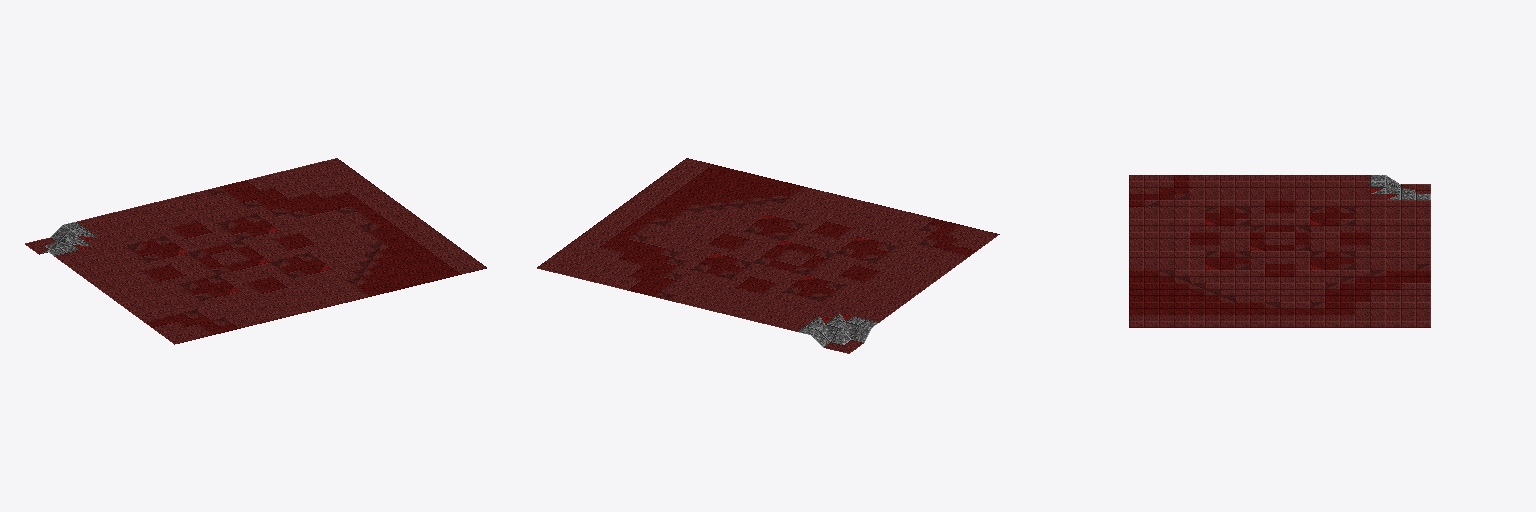
3 views of the same model, side by side, from view 1: azimuth 30°, elevation 25°; view 2: azimuth 150°, elevation 25°; view 3: azimuth 270°, elevation 25° (orthographic).
Visible parts, largest first — view 1: FloorSide_7; view 2: FloorSide_7; view 3: FloorSide_7.
Boxes of the visible parts, x1,y1,x2,y2 form: FloorSide_7: [25, 158, 486, 344]; FloorSide_7: [537, 158, 999, 353]; FloorSide_7: [1129, 175, 1430, 327].
Size of the model in its own units: 24 by 0.6907 by 20.
Materials: 10 (10 with a texture image).